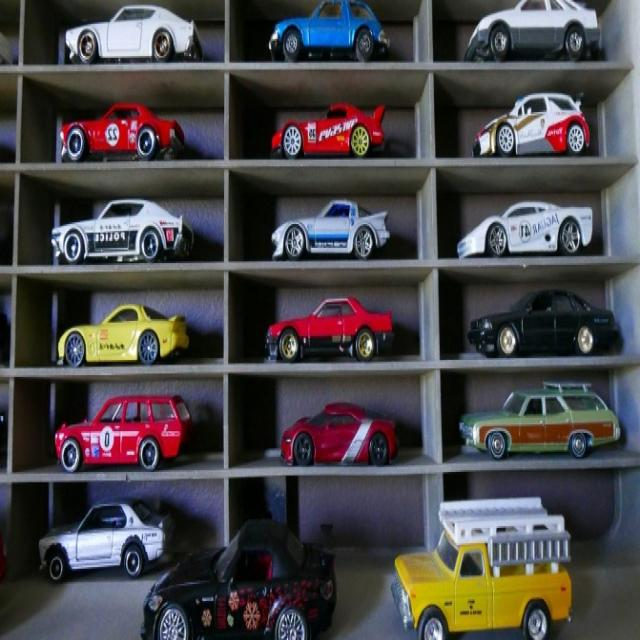Car: (140, 517, 338, 639), (459, 380, 621, 460), (38, 500, 176, 582), (54, 394, 194, 473), (468, 287, 620, 358), (52, 197, 195, 264), (265, 296, 395, 363), (464, 0, 602, 62), (57, 303, 189, 367), (65, 4, 203, 64), (457, 200, 593, 259), (280, 401, 400, 467), (472, 91, 590, 158), (60, 100, 185, 162), (269, 0, 391, 62), (271, 198, 391, 260), (270, 102, 386, 158)
